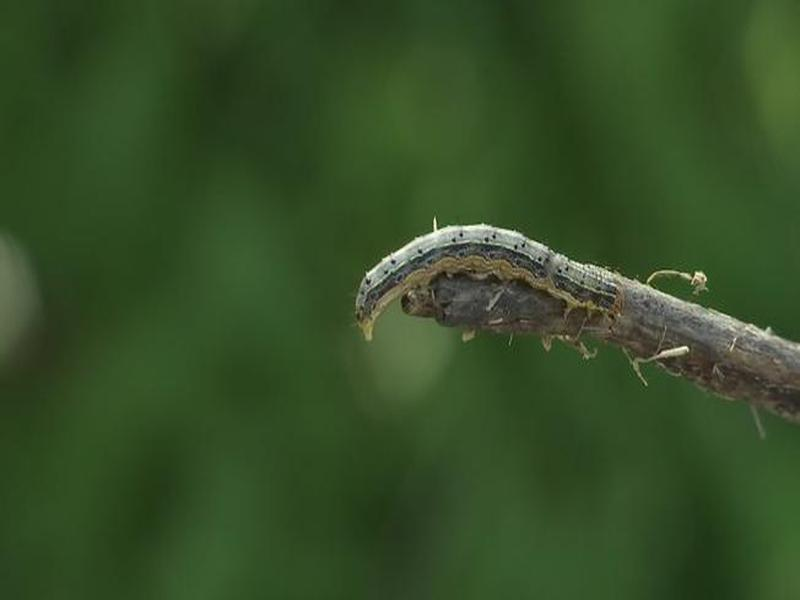Armyworms: (347, 213, 800, 414)
